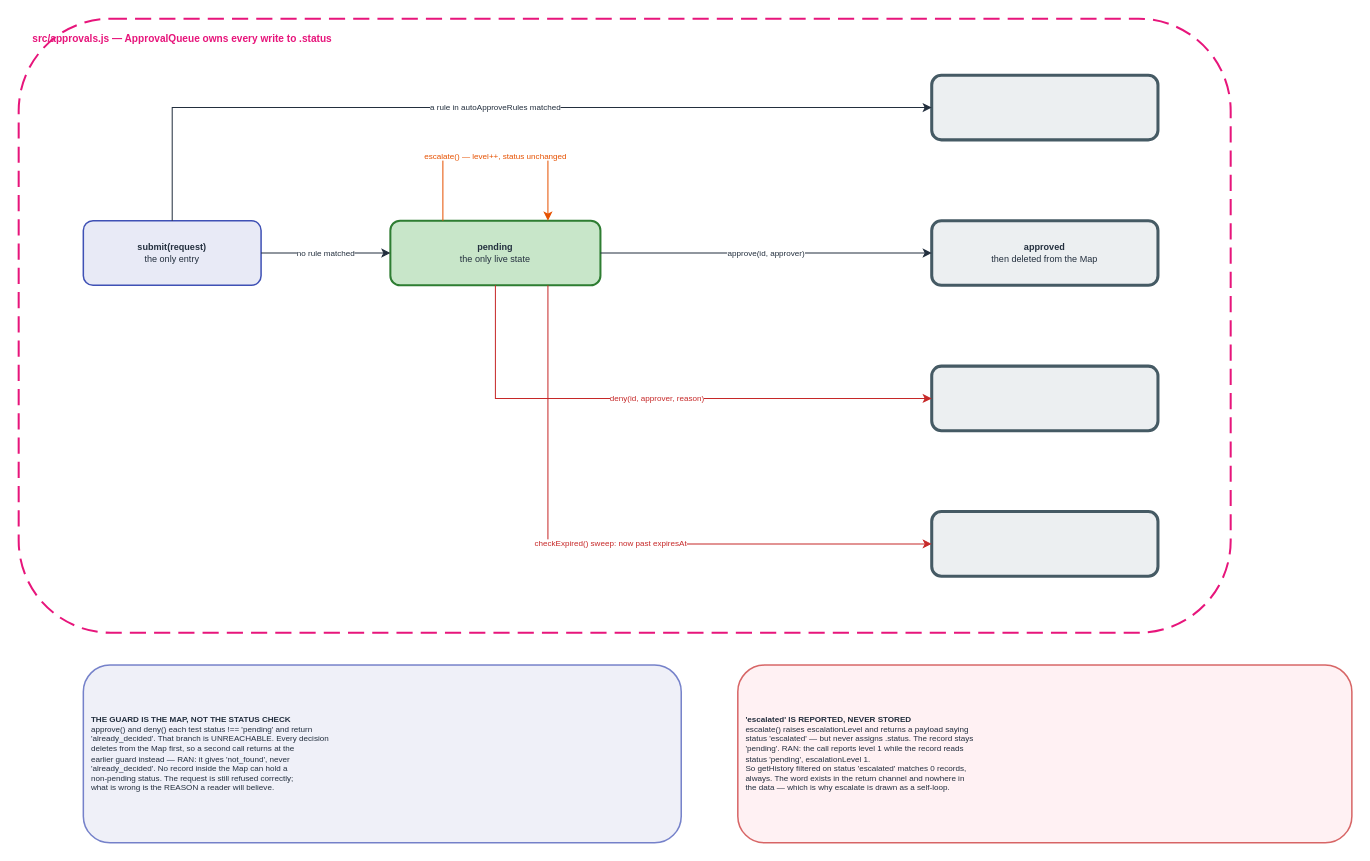
Image size: 1370x861. Some labels were removed from this diagram. Each missing label, with the centre of its shape:
"auto_approved born already decided" belongs at point 1044,107.
"denied then deleted from the Map" belongs at point 1044,398.
"expired swept, then deleted" belongs at point 1044,543.
